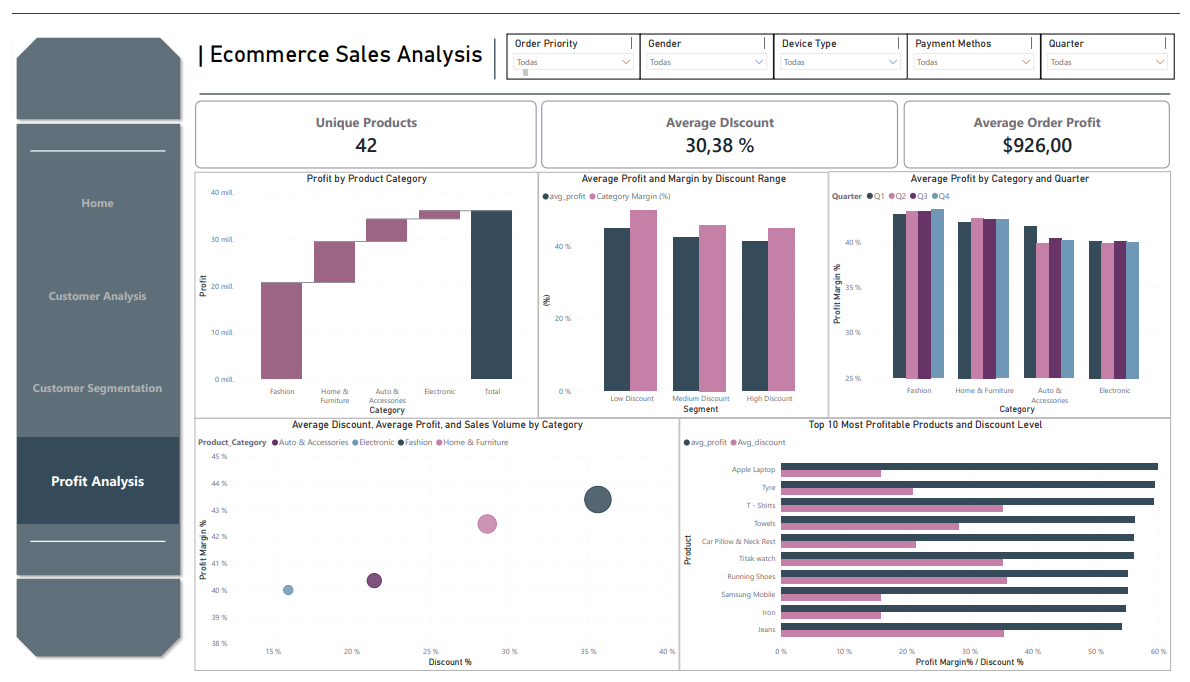

This screenshot's page, from the dashboard's own definition file:
{"tool":"powerbi","page":{"name":"Profit Analysis","canvas":[1920,1080],"ordinal":3},"visuals":[{"type":"shape","box":[0,171.6,284.6,759.5],"z":0},{"type":"card","fields":{"Values":["ecomm.Avg_discount"]},"box":[1363.3,133,548,150.3],"z":1000},{"type":"waterfallChart","title":"Profit by Product Category","fields":{"Y":["Sum(ecomm.Profit)"],"Category":["ecomm.Product_Category"]},"box":[301.5,260.1,564.1,405],"z":2000},{"type":"scatterChart","title":"Average Discount, Average Profit, and Sales Volume by Category","fields":{"X":["ecomm.Avg_discount"],"Y":["ecomm.avg_profit"],"Series":["ecomm.Product_Category"],"Size":["Sum(ecomm.Sales)"]},"box":[301.5,663.7,797,415.3],"z":3000},{"type":"clusteredBarChart","title":"Top 10 Most Profitable Products and Discount Level","fields":{"Category":["ecomm.Product"],"Y":["ecomm.avg_profit","ecomm.Avg_discount"]},"box":[1098.4,663.7,807.3,415.3],"z":4000},{"type":"clusteredColumnChart","title":"Average Profit by Category and Quarter","fields":{"Category":["ecomm.Product_Category"],"Y":["ecomm.avg_profit"],"Series":["Calendar.Quarter"]},"box":[1343,258.8,562.8,405],"z":5000},{"type":"slicer","fields":{"Values":["Calendar.Quarter"]},"box":[1691.8,33.3,220,74.5],"z":6000},{"type":"slicer","fields":{"Values":["ecomm.Order_Priority"]},"box":[814,33.3,220,74.5],"z":7000},{"type":"slicer","fields":{"Values":["ecomm.Payment_method"]},"box":[1472.4,33.3,219.5,74.5],"z":8000},{"type":"slicer","fields":{"Values":["ecomm.Device_Type"]},"box":[1252.9,33.3,220,74.5],"z":9000},{"type":"textbox","title":"| Ecommerce Sales Analysis","box":[301.9,43.9,552,63.8],"z":10000},{"type":"shape","box":[308.6,122.4,1596.1,20],"z":11000},{"type":"slicer","fields":{"Values":["ecomm.Gender"]},"box":[1033.4,33.3,220,74.5],"z":12000},{"type":"shape","box":[779.4,41.2,30.6,66.5],"z":13000},{"type":"shape","box":[30.6,214.1,222.1,22.6],"z":14000},{"type":"shape","box":[30.6,855.2,222.1,22.6],"z":15000},{"type":"pageNavigator","box":[9.3,239.4,264.7,599.9],"z":16000},{"type":"shape","box":[0,31.9,284.6,150.3],"z":17000},{"type":"shape","box":[0,920.4,284.6,143.6],"z":18000},{"type":"cardVisual","fields":{"Data":["ecomm.Products_unique"]},"box":[284.6,126.4,595.9,145],"z":19000},{"type":"cardVisual","fields":{"Data":["ecomm.Avg_discount"]},"box":[853.9,126.4,619.8,145],"z":20000},{"type":"cardVisual","fields":{"Data":["ecomm.Avg_Order_Profit"]},"box":[1449.8,126.4,470.8,145],"z":21000},{"type":"clusteredColumnChart","title":"Average Profit and Margin by Discount Range","fields":{"Category":["ecomm.Discount Segment"],"Y":["ecomm.avg_profit","ecomm.Margen % Categoría"]},"box":[865.6,260.1,477.4,403.7],"z":22000}]}

Visuals, with their boxes on the page's 1920x1080 design canvas (x1, y1, x2, y2). These are canvas units, not pixel positions in the 1190x682 screenshot, which may show the page scaled, cropped or inside an application window:
shape: 0, 172, 285, 931
card - ecomm.Avg_discount: 1363, 133, 1911, 283
"Profit by Product Category" waterfallChart: 302, 260, 866, 665
"Average Discount, Average Profit, and Sales Volume by Category" scatterChart: 302, 664, 1098, 1079
"Top 10 Most Profitable Products and Discount Level" clusteredBarChart: 1098, 664, 1906, 1079
"Average Profit by Category and Quarter" clusteredColumnChart: 1343, 259, 1906, 664
slicer - Calendar.Quarter: 1692, 33, 1912, 108
slicer - ecomm.Order_Priority: 814, 33, 1034, 108
slicer - ecomm.Payment_method: 1472, 33, 1692, 108
slicer - ecomm.Device_Type: 1253, 33, 1473, 108
"| Ecommerce Sales Analysis" textbox: 302, 44, 854, 108
shape: 309, 122, 1905, 142
slicer - ecomm.Gender: 1033, 33, 1253, 108
shape: 779, 41, 810, 108
shape: 31, 214, 253, 237
shape: 31, 855, 253, 878
pageNavigator: 9, 239, 274, 839
shape: 0, 32, 285, 182
shape: 0, 920, 285, 1064
cardVisual - ecomm.Products_unique: 285, 126, 880, 271
cardVisual - ecomm.Avg_discount: 854, 126, 1474, 271
cardVisual - ecomm.Avg_Order_Profit: 1450, 126, 1921, 271
"Average Profit and Margin by Discount Range" clusteredColumnChart: 866, 260, 1343, 664
